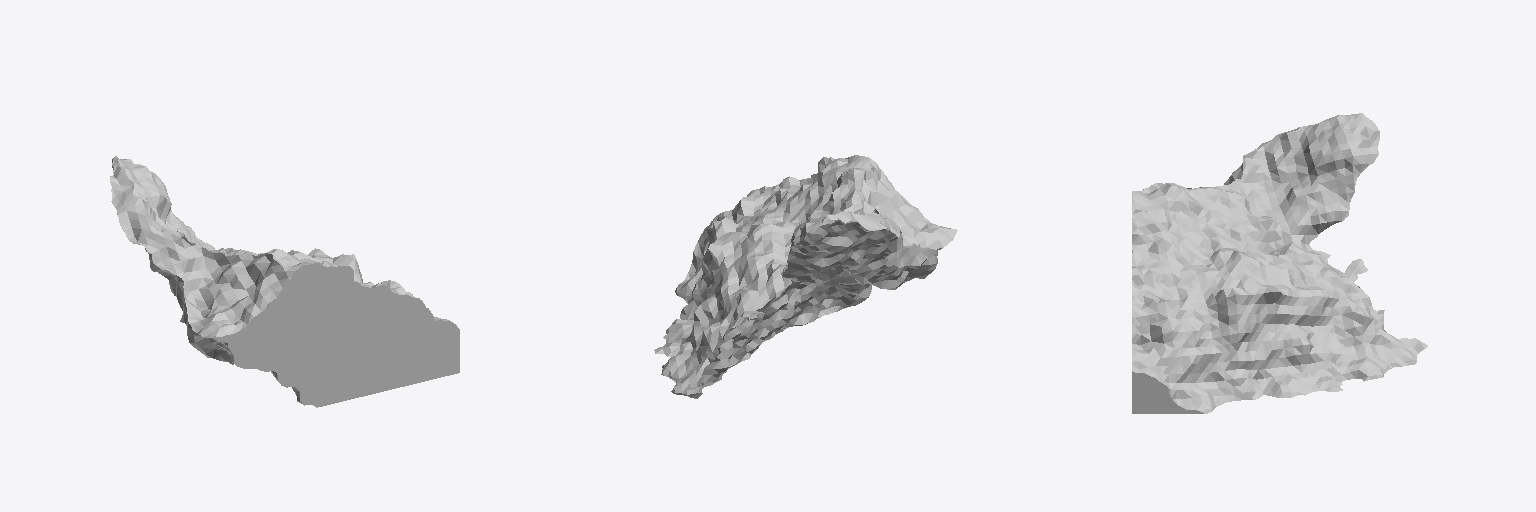
File: cube_20_seed_4_shard.010.obj
3 renders of one model, left to right at view 1: azimuth 30°, elevation 25°; view 2: azimuth 150°, elevation 25°; view 3: azimuth 270°, elevation 25°, orthographic.
Visible parts, largest first — view 1: Cube_shard.010_Cube_shard.110; view 2: Cube_shard.010_Cube_shard.110; view 3: Cube_shard.010_Cube_shard.110.
Part boxes in pixels (left/top/right/bottom): Cube_shard.010_Cube_shard.110: left=110, top=156, right=459, bottom=407; Cube_shard.010_Cube_shard.110: left=654, top=155, right=957, bottom=398; Cube_shard.010_Cube_shard.110: left=1132, top=113, right=1427, bottom=413.
Bounding box in the file's own units: 1.56 × 1.08 × 1.53.